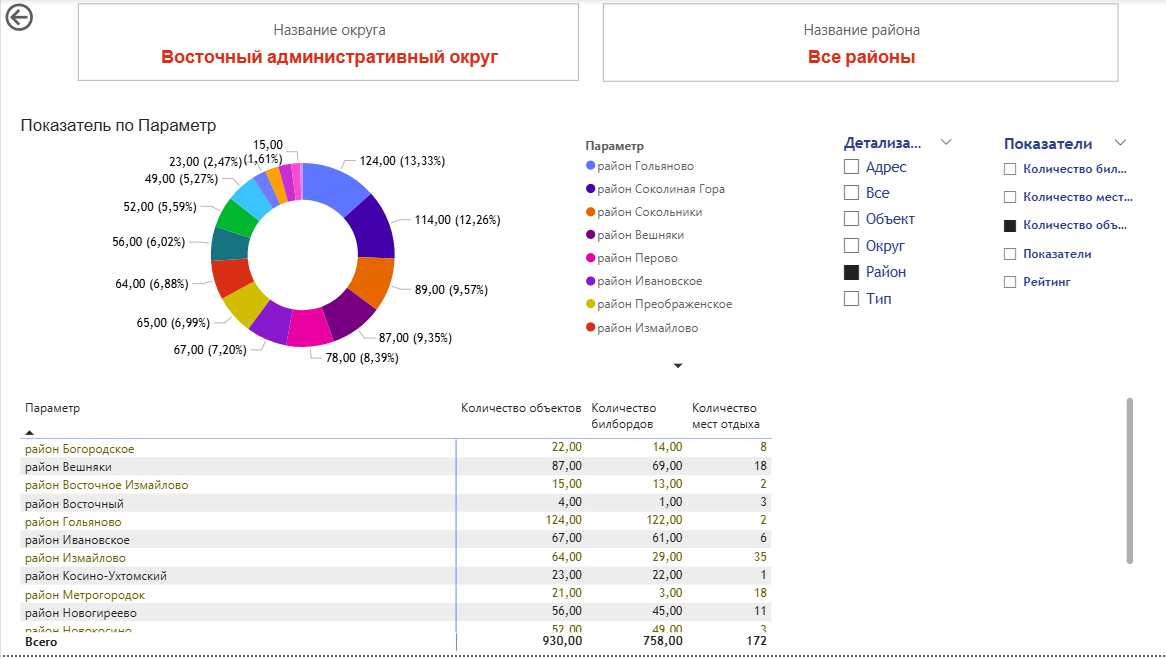

The dashboard page shown, as its layout file describes it:
{"tool":"powerbi","page":{"name":"Детализация","canvas":[1280,720],"ordinal":2},"visuals":[{"type":"actionButton","box":[0,0,100,40],"z":0},{"type":"pivotTable","fields":{"Values":["Меры.Количество объектов","Меры.Количество билбордов","Меры.Количество мест отдыха"],"Rows":["Параметры.Параметр"]},"box":[16,432,1232,288],"z":1000},{"type":"donutChart","fields":{"Category":["Параметры.Параметр"],"Y":["Меры.Показатель"]},"box":[16,128,832,288],"z":2000},{"type":"slicer","fields":{"Values":["Параметры.Детализация"]},"box":[912,144,144,224],"z":3000},{"type":"slicer","fields":{"Values":["Показатели.Column1"]},"box":[1088,144,160,224],"z":4000},{"type":"cardVisual","fields":{"Data":["Меры.Название округа"]},"box":[80,0,560,96],"z":5000},{"type":"cardVisual","fields":{"Data":["Меры.Название района"]},"box":[656,0,576,96],"z":6000}]}

Visuals, with their boxes in screenshot pixels (x1, y1, x2, y2), scaled from the page's 1280x720 canvas onto the 1166x659 screenshot:
actionButton: [left=0, top=0, right=91, bottom=37]
pivotTable - Меры.Количество объектов x Меры.Количество билбордов: [left=15, top=395, right=1137, bottom=658]
donutChart - Параметры.Параметр x Меры.Показатель: [left=15, top=117, right=772, bottom=381]
slicer - Параметры.Детализация: [left=831, top=132, right=962, bottom=337]
slicer - Показатели.Column1: [left=991, top=132, right=1137, bottom=337]
cardVisual - Меры.Название округа: [left=73, top=0, right=583, bottom=88]
cardVisual - Меры.Название района: [left=598, top=0, right=1122, bottom=88]
